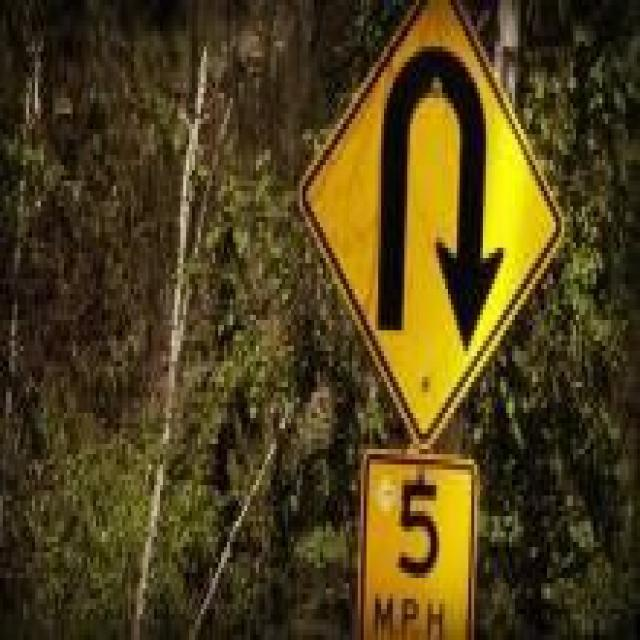Uturn: (299, 0, 562, 444)
